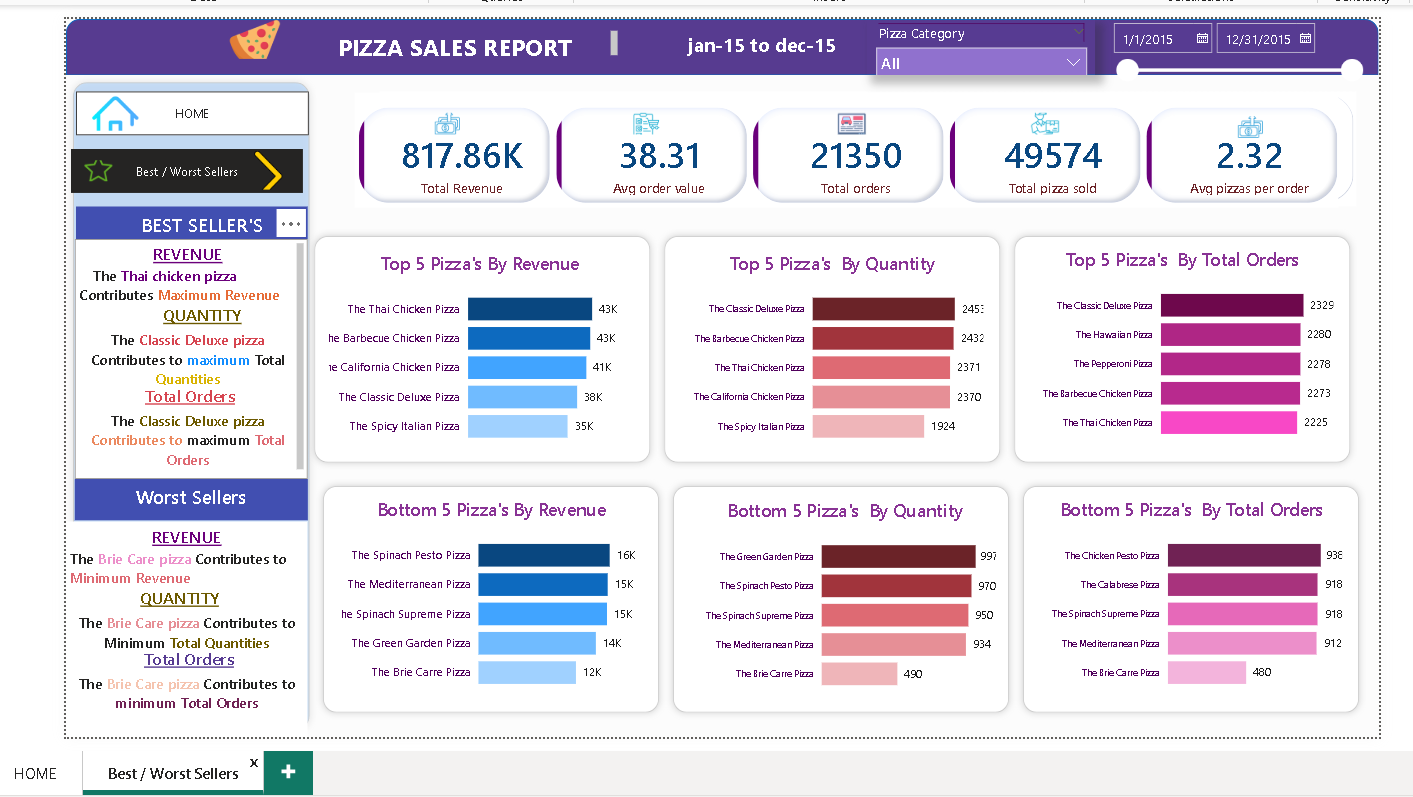

What the dashboard file says about the page in this screenshot:
{"tool":"powerbi","page":{"name":"Best / Worst  Sellers","canvas":[1500,820],"ordinal":1},"visuals":[{"type":"shape","box":[0,63.8,286.2,756.2],"z":0},{"type":"cardVisual","fields":{"Data":["pizza_sales.Total_Revenue","pizza_sales.Avg_order_value","pizza_sales.Total_orders","pizza_sales.Total_pizza_sold","pizza_sales.Avg pizzas per order"]},"box":[358.6,82.9,1115.7,131.4],"z":1000},{"type":"shape","box":[0,0,1500,64.3],"z":2000},{"type":"textbox","box":[260,8.6,375.7,41.4],"z":3000},{"type":"textbox","box":[675.7,8.6,240,55.7],"z":4000},{"type":"image","box":[171.4,0,88.6,45.7],"z":5000},{"type":"shape","box":[276.2,240,400,275],"z":6000},{"type":"textbox","box":[11.2,213.8,265,37.5],"z":7000},{"type":"textbox","box":[10,251.2,266.2,275],"z":8000},{"type":"textbox","box":[10,526.2,266.2,47.5],"z":9000},{"type":"textbox","box":[0,573.8,276.2,246.2],"z":10000},{"type":"slicer","fields":{"Values":["pizza_sales.pizza_category"]},"box":[916.2,0,260,63.8],"z":11000},{"type":"slicer","fields":{"Values":["pizza_sales.order_date"]},"box":[1179,0,317,73],"z":12000},{"type":"shape","box":[676.2,240,400,275],"z":13000},{"type":"shape","box":[1076.2,240,400,275],"z":14000},{"type":"shape","box":[286.2,526.2,400,275],"z":15000},{"type":"shape","box":[686.2,526.2,400,275],"z":16000},{"type":"shape","box":[1086.2,526.2,400,275],"z":17000},{"type":"barChart","title":"Top 5 Pizza''s By Revenue","fields":{"Category":["pizza_sales.pizza_name"],"Y":["pizza_sales.Total Revenue"]},"box":[295,263.8,355,233.8],"z":18000},{"type":"barChart","title":"Bottom 5 Pizza''s By Revenue","fields":{"Category":["pizza_sales.pizza_name"],"Y":["pizza_sales.Total Revenue"]},"box":[308.8,546.2,355,233.8],"z":19000},{"type":"barChart","title":"Top 5 Pizza''s  By Quantity","fields":{"Category":["pizza_sales.pizza_name"],"Y":["pizza_sales.Total pizza sold"]},"box":[698.8,263.8,355,233.8],"z":20000},{"type":"barChart","title":"Bottom 5 Pizza''s  By Quantity","fields":{"Category":["pizza_sales.pizza_name"],"Y":["pizza_sales.Total pizza sold"]},"box":[712.5,547.5,355,233.8],"z":21000},{"type":"barChart","title":"Top 5 Pizza''s  By Total Orders","fields":{"Category":["pizza_sales.pizza_name"],"Y":["pizza_sales.Total orders"]},"box":[1098.8,260,355,233.8],"z":22000},{"type":"barChart","title":"Bottom 5 Pizza''s  By Total Orders","fields":{"Category":["pizza_sales.pizza_name"],"Y":["pizza_sales.Total orders"]},"box":[1108.8,546.2,355,233.8],"z":23000},{"type":"pageNavigator","box":[5.7,148.6,265.7,50],"z":24000},{"type":"pageNavigator","box":[11.2,82.5,266.2,50],"z":25000},{"type":"image","box":[202.9,148.6,57.1,48.6],"z":26000},{"type":"image","box":[30,82.5,52.5,50],"z":27000},{"type":"image","box":[11.4,161.4,51.4,24.3],"z":28000},{"type":"cardVisual","fields":{"Data":["pizza_sales.Total_Revenue","pizza_sales.Avg_order_value","pizza_sales.Total_orders","pizza_sales.Total_pizza_sold","pizza_sales.Avg pizzas per order"]},"box":[330,85,1123.8,131.2],"z":29000},{"type":"image","box":[386.2,107.5,100,25],"z":30000},{"type":"image","box":[636.2,107.5,55,25],"z":31000},{"type":"image","box":[880,107.5,36.2,25],"z":32000},{"type":"image","box":[1086.2,107.5,66.2,25],"z":33000},{"type":"image","box":[1337.5,107.5,32.5,32.5],"z":34000}]}

Visuals, with their boxes on the page's 1500x820 design canvas (x1, y1, x2, y2). These are canvas units, not pixel positions in the 1413x797 screenshot, which may show the page scaled, cropped or inside an application window:
shape: (0,64,286,820)
cardVisual - pizza_sales.Total_Revenue x pizza_sales.Avg_order_value: (359,83,1474,214)
shape: (0,0,1500,64)
textbox: (260,9,636,50)
textbox: (676,9,916,64)
image: (171,0,260,46)
shape: (276,240,676,515)
textbox: (11,214,276,251)
textbox: (10,251,276,526)
textbox: (10,526,276,574)
textbox: (0,574,276,820)
slicer - pizza_sales.pizza_category: (916,0,1176,64)
slicer - pizza_sales.order_date: (1179,0,1496,73)
shape: (676,240,1076,515)
shape: (1076,240,1476,515)
shape: (286,526,686,801)
shape: (686,526,1086,801)
shape: (1086,526,1486,801)
"Top 5 Pizza''s By Revenue" barChart: (295,264,650,498)
"Bottom 5 Pizza''s By Revenue" barChart: (309,546,664,780)
"Top 5 Pizza''s  By Quantity" barChart: (699,264,1054,498)
"Bottom 5 Pizza''s  By Quantity" barChart: (712,548,1068,781)
"Top 5 Pizza''s  By Total Orders" barChart: (1099,260,1454,494)
"Bottom 5 Pizza''s  By Total Orders" barChart: (1109,546,1464,780)
pageNavigator: (6,149,271,199)
pageNavigator: (11,82,277,132)
image: (203,149,260,197)
image: (30,82,82,132)
image: (11,161,63,186)
cardVisual - pizza_sales.Total_Revenue x pizza_sales.Avg_order_value: (330,85,1454,216)
image: (386,108,486,132)
image: (636,108,691,132)
image: (880,108,916,132)
image: (1086,108,1152,132)
image: (1338,108,1370,140)
